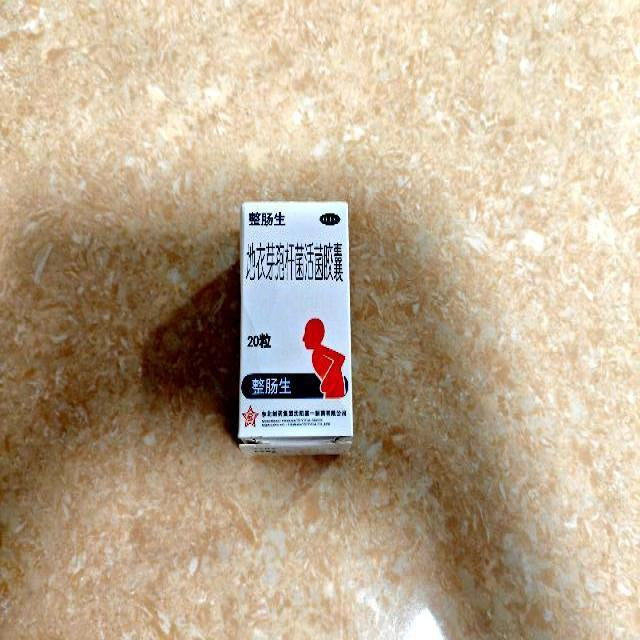box: (236, 200, 354, 456)
